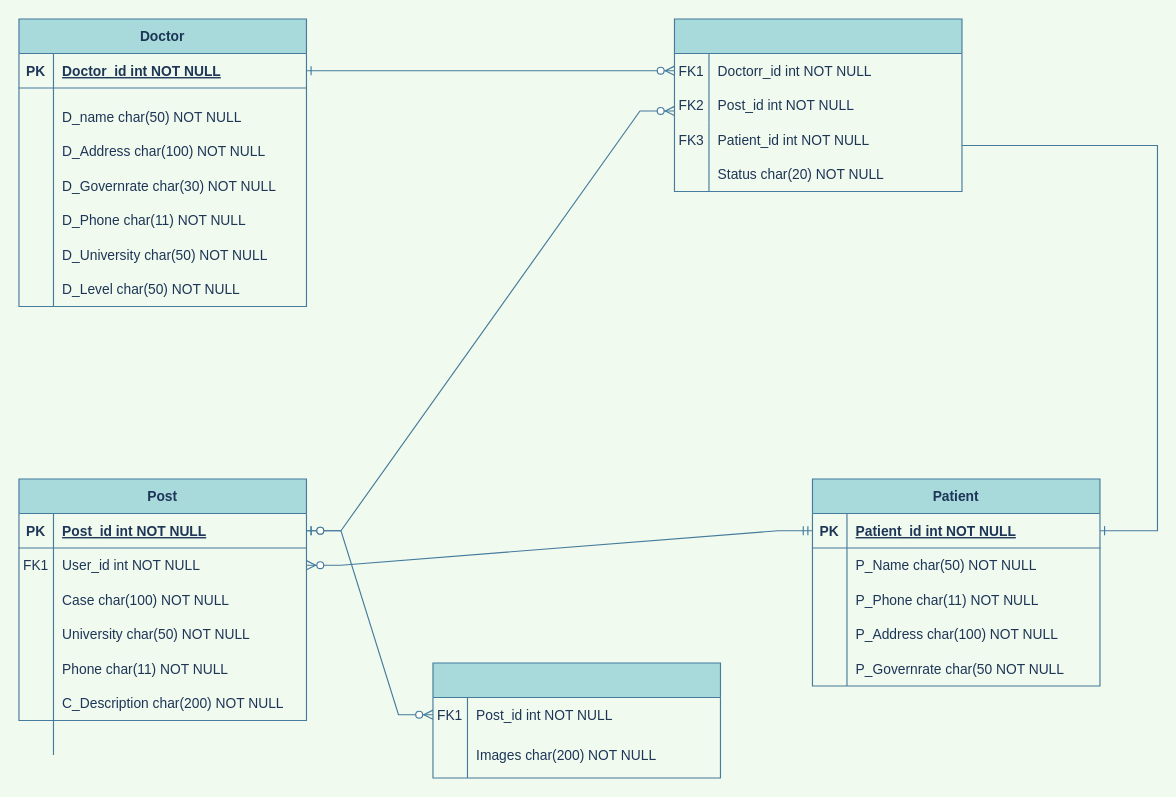
Image size: 1176x797. Some labels were removed from this diagram. The shapes that lost their labels are listed below. From the top down, each one's box as (x1, y1, x2, y2) in pixels, then its label:
(673, 18, 962, 191): Request
(432, 662, 720, 778): Post_images
